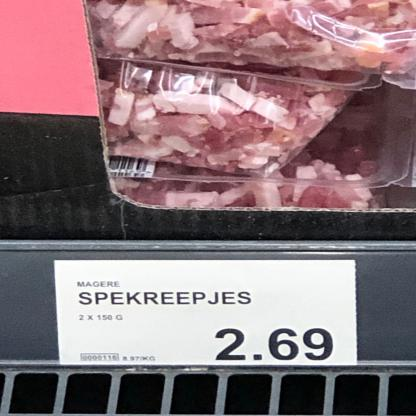prtg: (54, 261, 358, 366)
